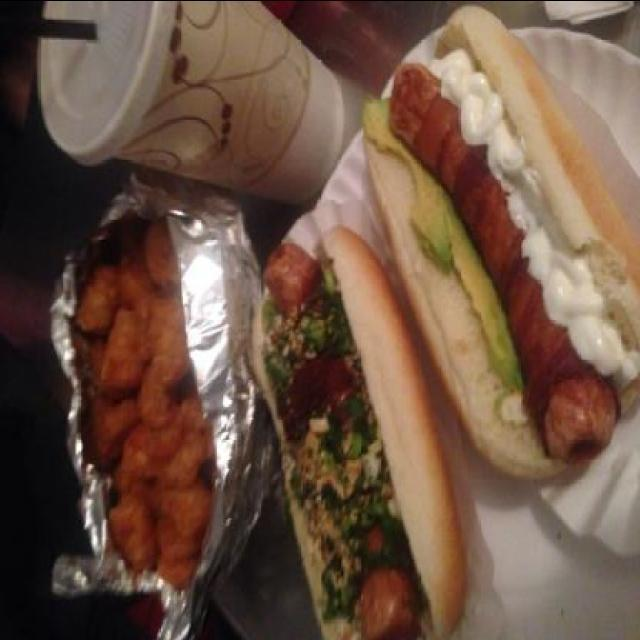Hot dog: (360, 0, 640, 482), (259, 223, 470, 640)
